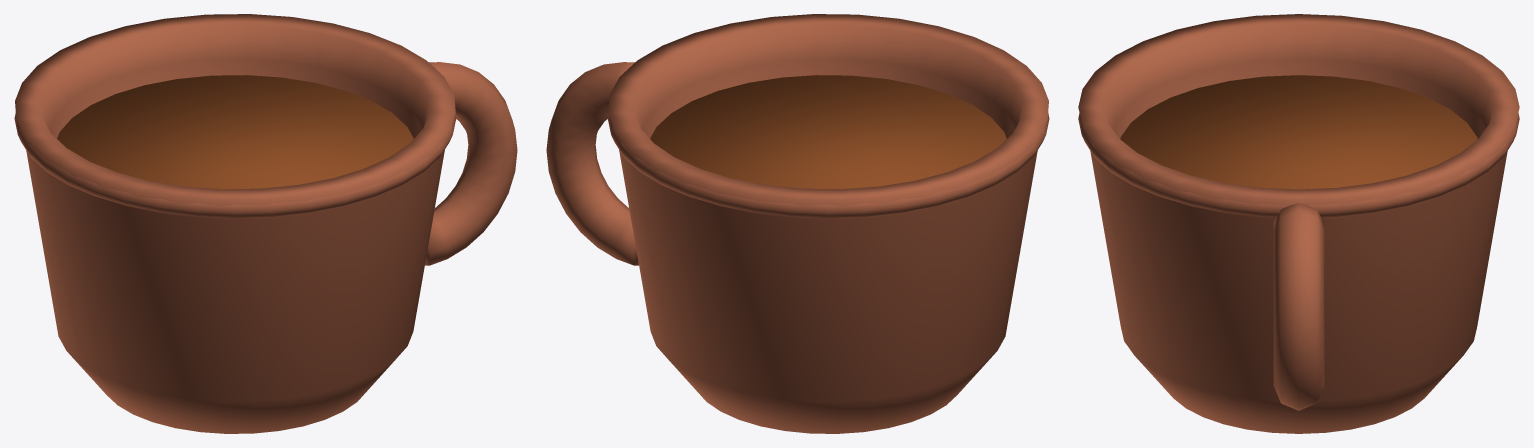
The model's file is clay-tea-cup.glb.
3 renders of one model, left to right at view 1: azimuth 30°, elevation 25°; view 2: azimuth 150°, elevation 25°; view 3: azimuth 270°, elevation 25°, orthographic.
Parts seen in each view (by area): view 1: wheel-thrown cup, tea; view 2: wheel-thrown cup, tea; view 3: wheel-thrown cup, tea.
Part boxes in pixels (bbox=[...]): wheel-thrown cup: bbox=[14, 14, 517, 433]; tea: bbox=[57, 75, 413, 189]; wheel-thrown cup: bbox=[546, 14, 1049, 433]; tea: bbox=[650, 75, 1006, 189]; wheel-thrown cup: bbox=[1078, 14, 1519, 433]; tea: bbox=[1120, 75, 1477, 189].
Bounding box in the file's own units: 0.64 × 0.36 × 0.52.
